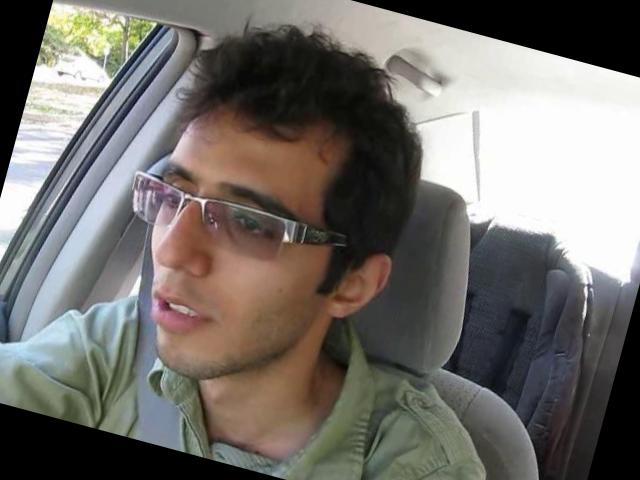eye_open: (218, 202, 290, 253), (156, 184, 189, 220)
face: (111, 138, 353, 406)
